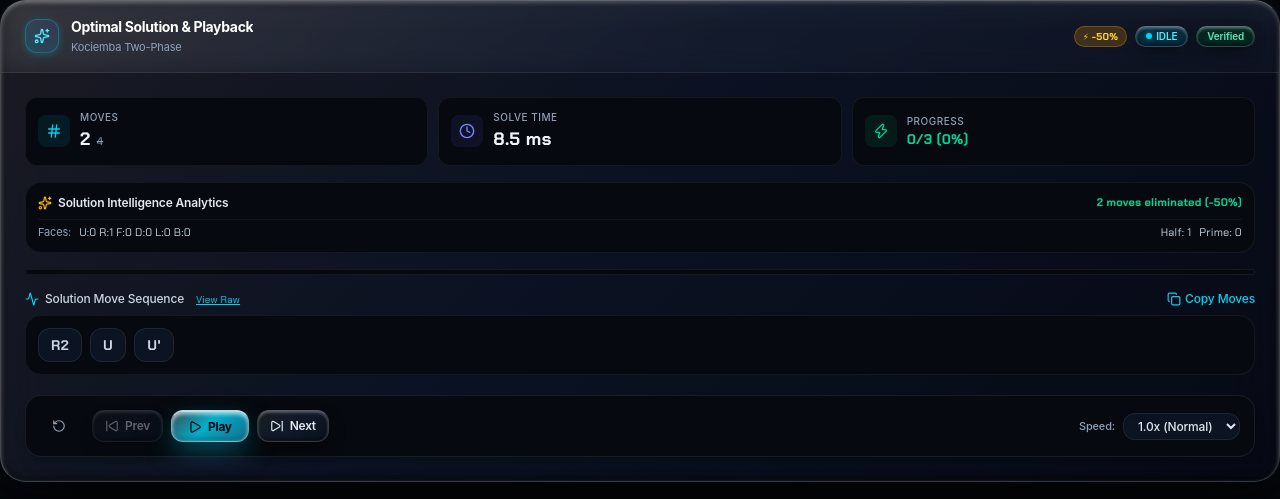
Test case: SolutionPanel Component (Phase 5A) › displays optimization badge and analytics breakdown when is_optimized is true
Expected: the text "⚡ -50%" is shown, [1074, 26, 1127, 47]
Expected: the text "2 moves eliminated (-50%)" is shown, [1097, 195, 1242, 210]
Step 1. Click the button "View Raw" → (218, 299), box [196, 292, 240, 306]
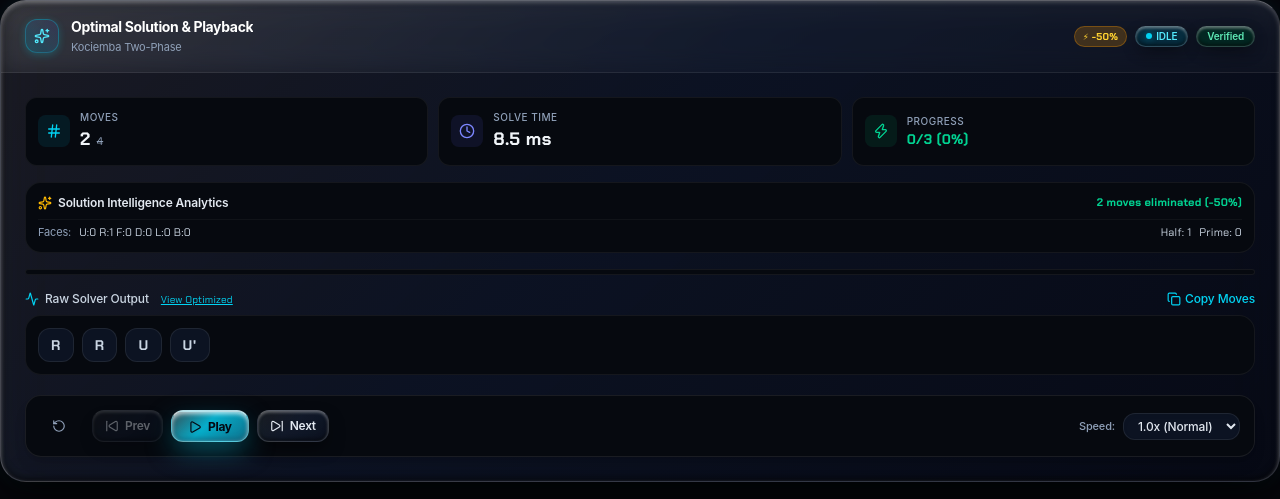
Now the button "View Optimized" is shown, box [161, 292, 233, 306]
